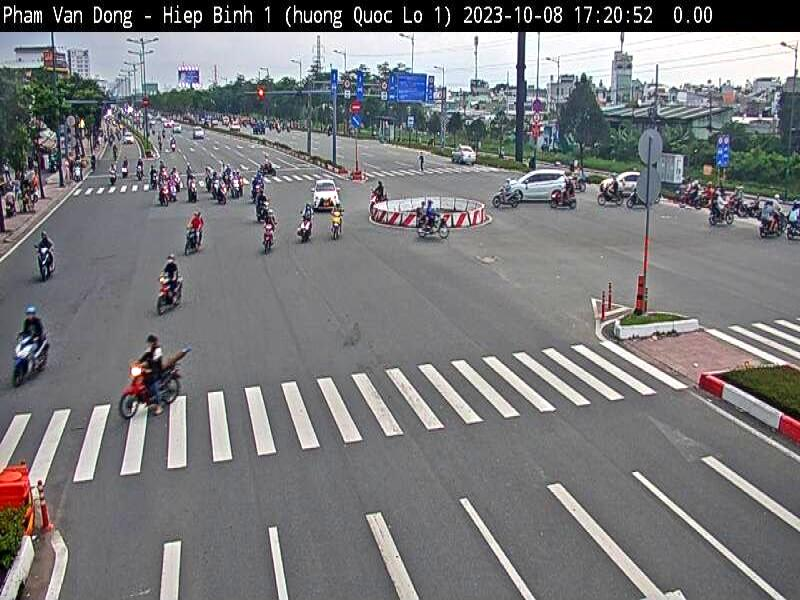car: (509, 154, 575, 245), (316, 175, 342, 224), (446, 139, 464, 163)
motorcycle: (98, 356, 201, 434), (0, 331, 60, 386)
